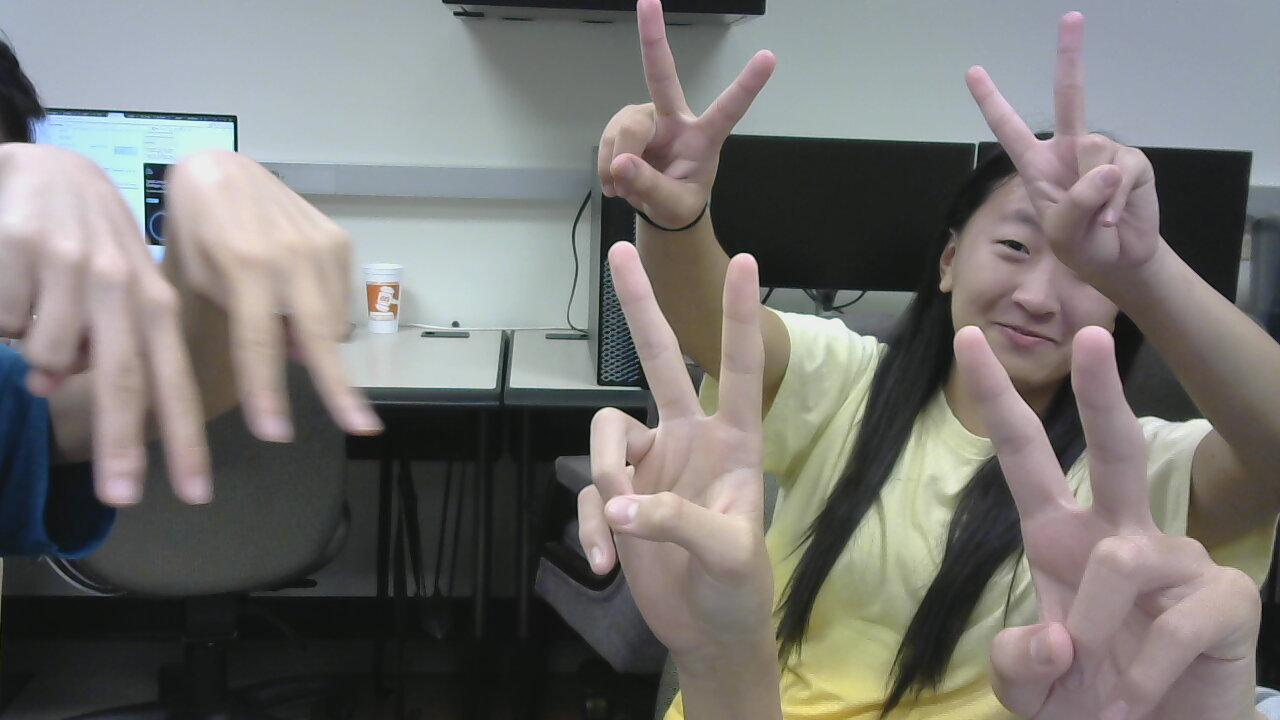peace: (914, 328, 1280, 720), (557, 243, 792, 637), (117, 127, 406, 440), (0, 156, 235, 528), (951, 2, 1217, 302), (579, 0, 746, 221)
